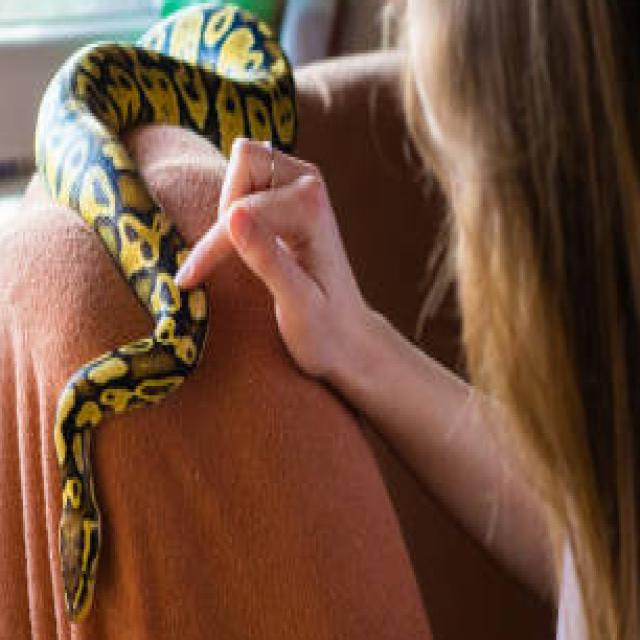Snake: (31, 0, 299, 621)
